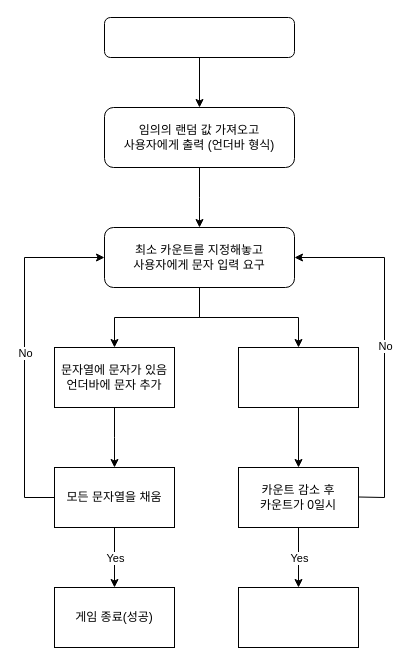
This 410x665 diagram has some shape labels left out. The centre of each missing label's shape, as x and y in pixels:
"게임 종료(실패)" belongs at (298,617).
"문자열에 문자가 없음 행맨 카운트 그림 추가" belongs at (298,377).
"행맨 프로그램 기동" belongs at (199,37).
